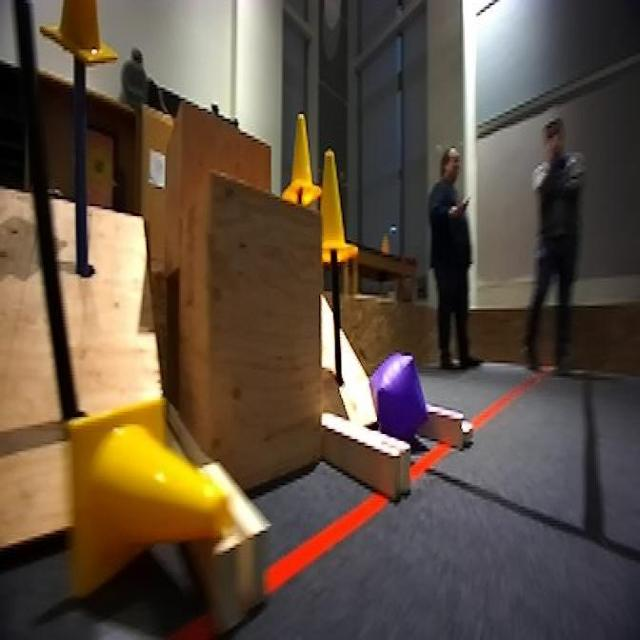frc_cone: (64, 400, 226, 596), (310, 152, 352, 272), (43, 0, 117, 68), (284, 114, 318, 206)
frc_cube: (371, 351, 426, 439)
